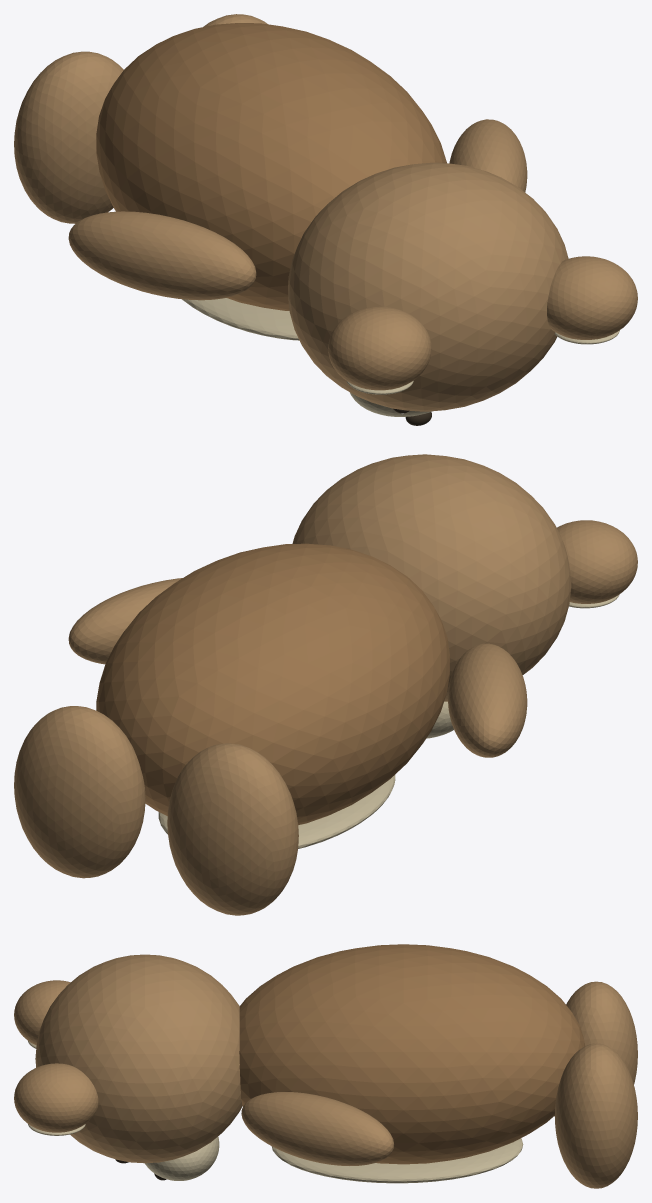
File: bear.glb
3 views of the same model, one above another, from view 1: azimuth 30°, elevation 25°; view 2: azimuth 150°, elevation 25°; view 3: azimuth 270°, elevation 25° (orthographic). The views are drawn at different scales.
Visible parts, largest first — view 1: torso, head, foot_left, arm_left, ear_left, ear_right, arm_right, belly_patch; view 2: torso, head, foot_left, foot_right, arm_left, ear_left, arm_right, belly_patch; view 3: torso, head, foot_right, arm_right, ear_right, belly_patch, foot_left, ear_left, muzzle.
Boxes of the visible parts, x1,y1,x2,y2 form: torso: (96, 23, 446, 310); head: (288, 162, 568, 411); foot_left: (14, 51, 123, 223); arm_left: (68, 211, 256, 300); ear_left: (328, 306, 431, 390); ear_right: (547, 256, 637, 339); arm_right: (449, 119, 527, 192); belly_patch: (182, 298, 299, 340); torso: (96, 543, 449, 824); head: (292, 454, 571, 701); foot_left: (167, 743, 298, 915); foot_right: (14, 706, 145, 878); arm_left: (448, 643, 527, 757); ear_left: (557, 520, 637, 603); arm_right: (68, 578, 182, 664); belly_patch: (158, 775, 395, 848); torso: (239, 944, 584, 1164); head: (35, 954, 242, 1163); foot_right: (554, 1043, 637, 1188); arm_right: (241, 1092, 393, 1165); ear_right: (14, 1063, 98, 1132); belly_patch: (271, 1138, 523, 1183); foot_left: (566, 981, 637, 1084); ear_left: (14, 980, 70, 1045); muzzle: (145, 1136, 219, 1180).
Size of the model in its own units: 0.3298 by 0.192 by 0.495.
